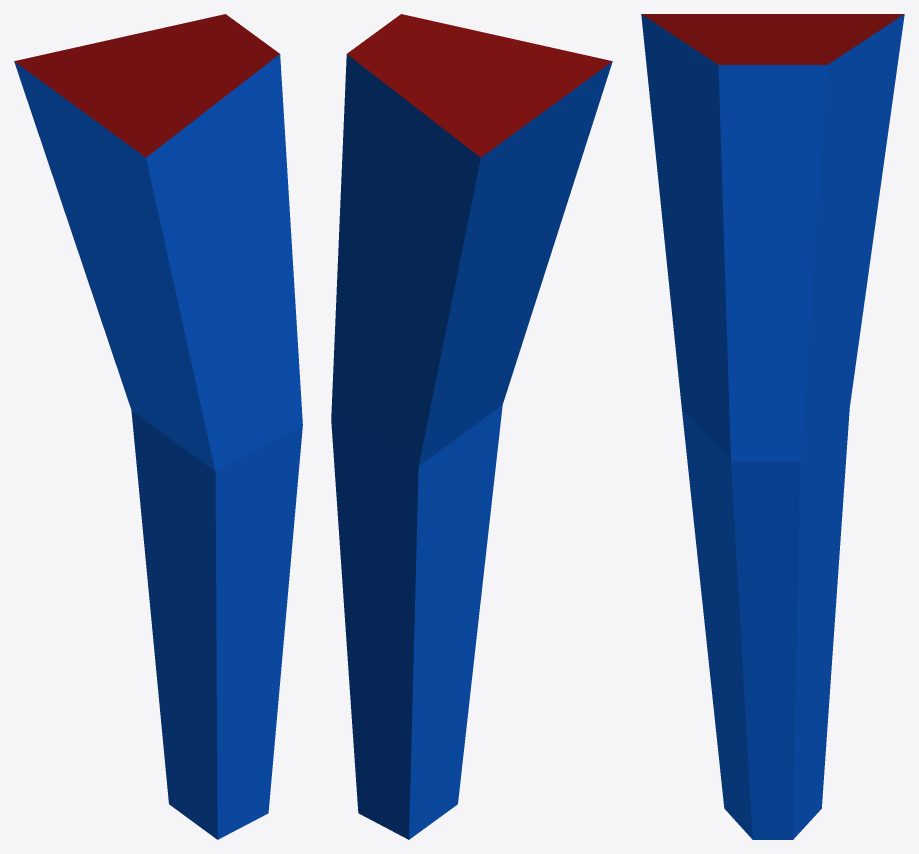
File: severed-leg(1).fbx
The picture shows the model from 3 angles, left to right: view 1: azimuth 30°, elevation 25°; view 2: azimuth 150°, elevation 25°; view 3: azimuth 270°, elevation 25°; orthographic projection.
Visible parts, largest first — view 1: Cube; view 2: Cube; view 3: Cube.
Boxes of the visible parts, box(x1,y1,x2,y2) form: Cube: box(14, 14, 302, 839); Cube: box(331, 14, 612, 839); Cube: box(641, 14, 904, 839).
Bounding box in the file's own units: 102 × 374 × 116.
